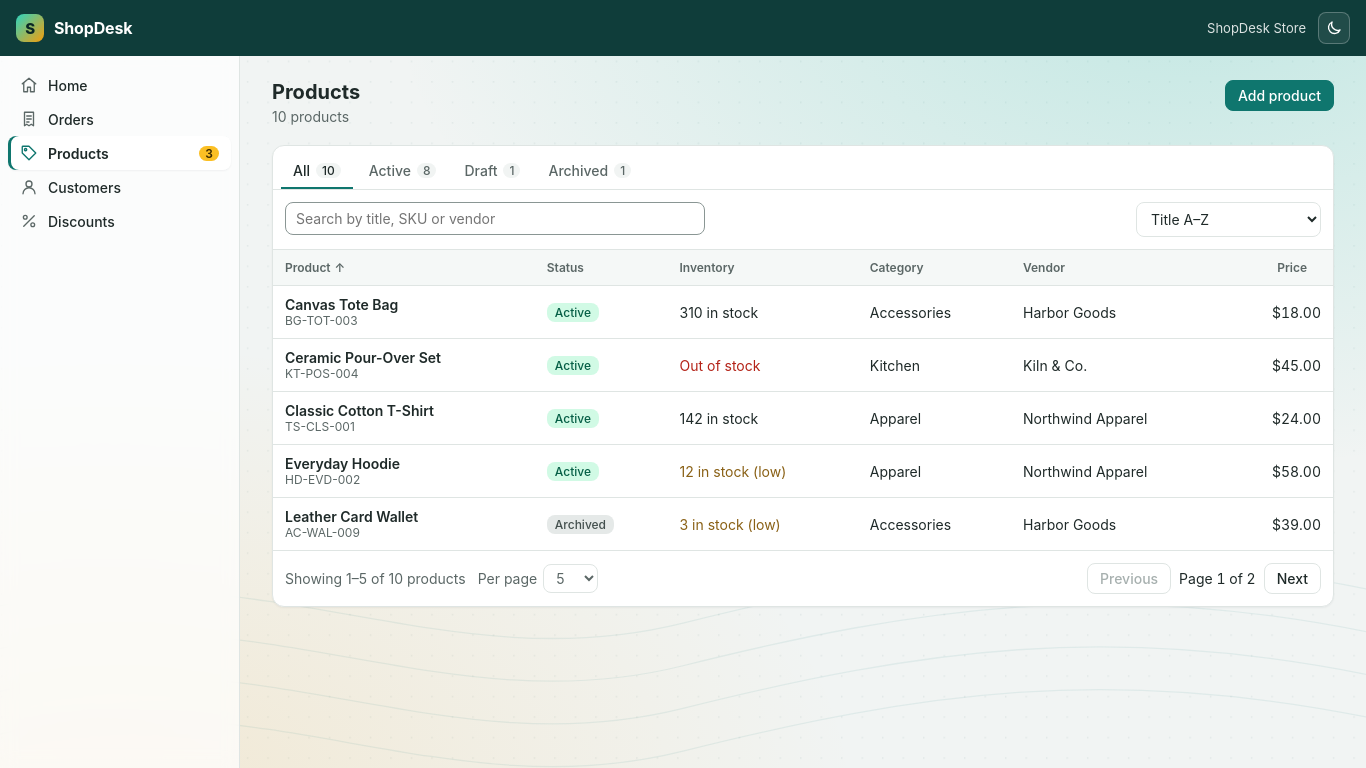
Test: searching › finds products with brackets in their names
In the search field named "Search products": (495, 218) [285, 202, 705, 235], type "(3-pack)"
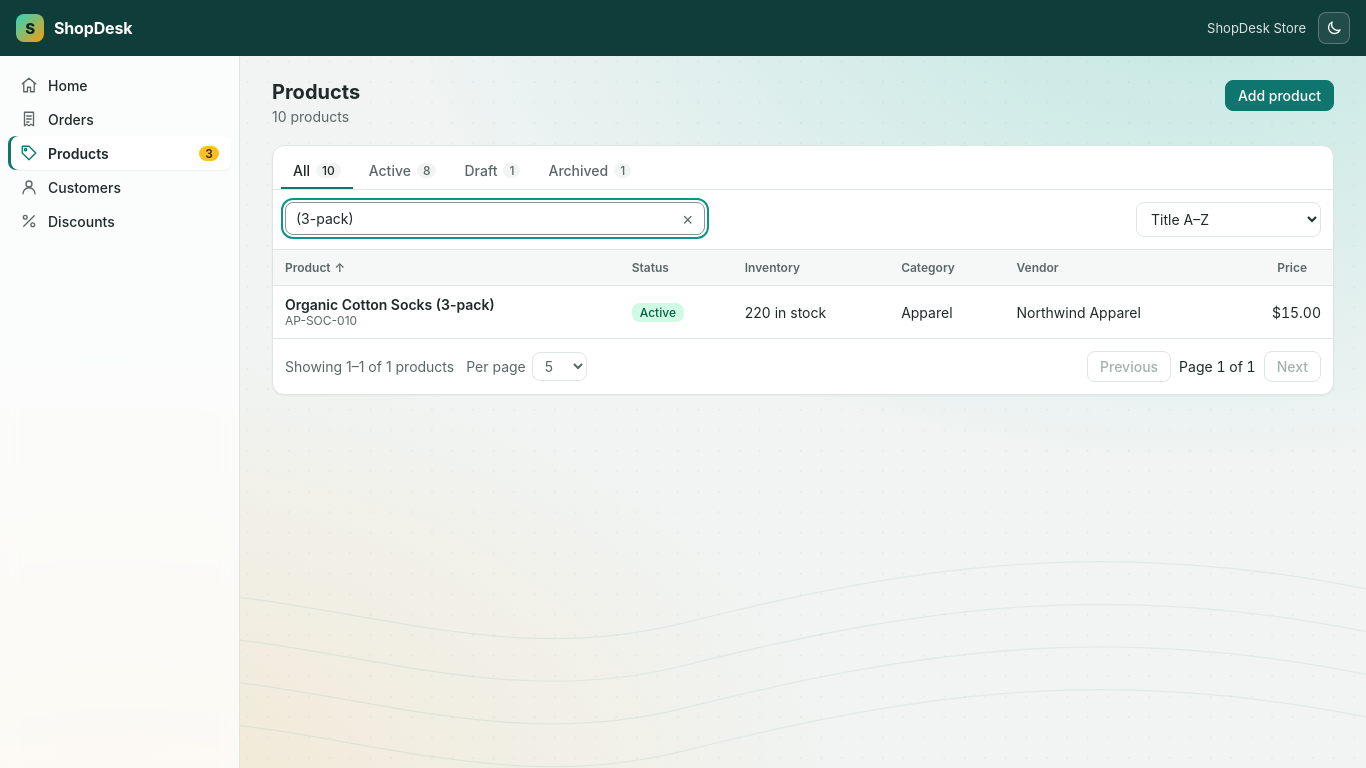
Result: the link "Organic Cotton Socks (3-pack)" is shown at [285, 296, 495, 313]
Result: the text "Showing 1–1 of 1 products" is shown at [285, 358, 454, 375]
